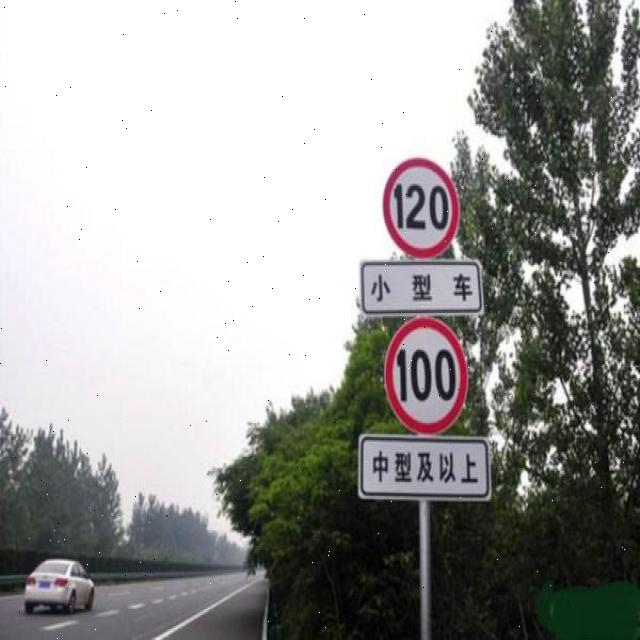speed limit 100: (385, 317, 468, 433)
speed limit 120: (382, 158, 463, 258)
